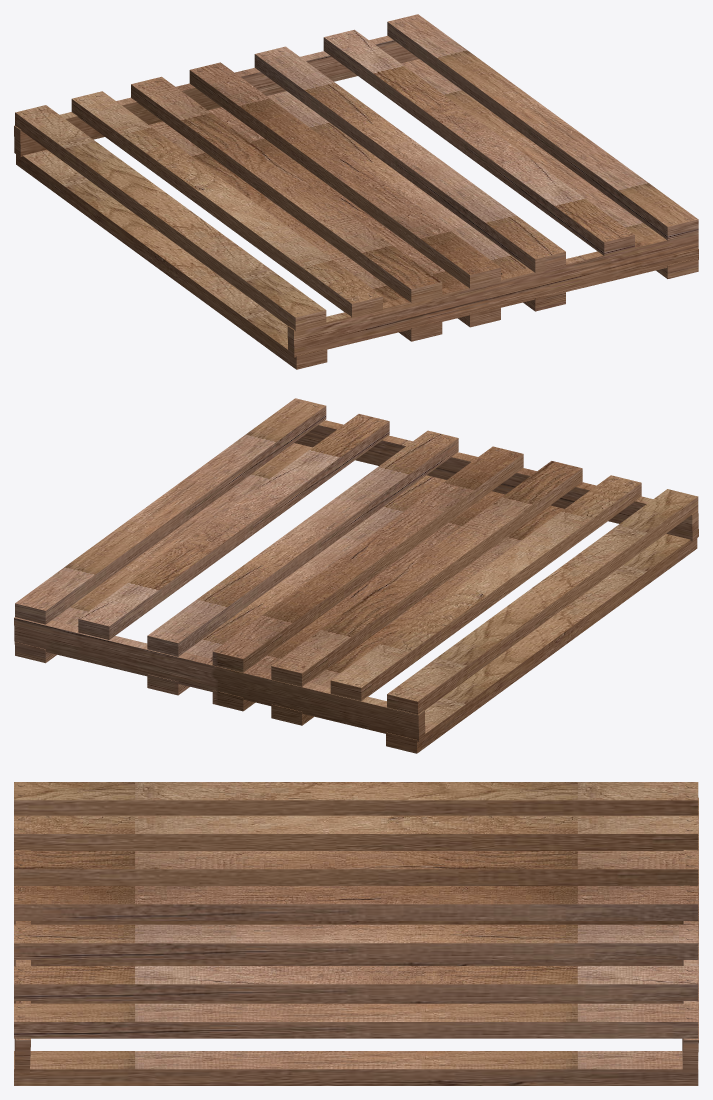
Rendered from Pallet.FBX.
3 renders of one model, top to bottom at view 1: azimuth 30°, elevation 25°; view 2: azimuth 150°, elevation 25°; view 3: azimuth 270°, elevation 25°, orthographic. The views are drawn at different scales.
Parts seen in each view (by area): view 1: Circle.025; view 2: Circle.025; view 3: Circle.025.
Part boxes in pixels (x1,y1,x2,y2): Circle.025: [14, 14, 698, 369]; Circle.025: [14, 398, 698, 753]; Circle.025: [14, 782, 698, 1085].
Size of the model in its own units: 143 by 18.16 by 172.
Materials: 1 (1 with a texture image).
